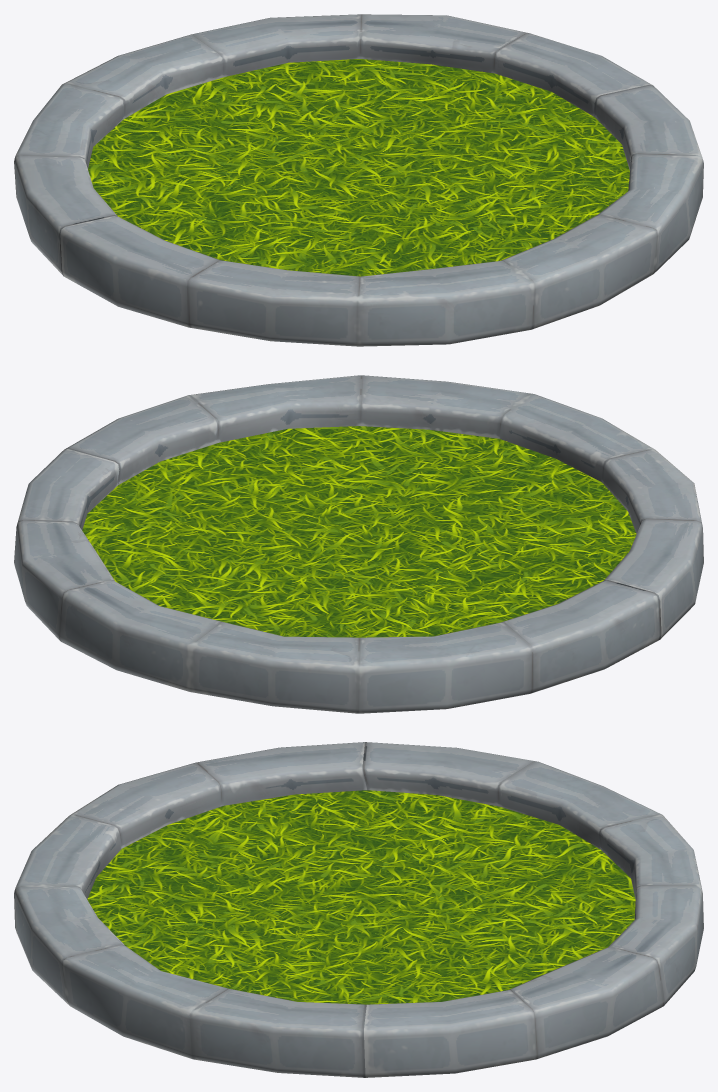
File: StreetPlanter02_2.FBX
3 renders of one model, top to bottom at view 1: azimuth 30°, elevation 25°; view 2: azimuth 150°, elevation 25°; view 3: azimuth 270°, elevation 25°, orthographic.
Parts seen in each view (by area): view 1: StreetPlanter02_2; view 2: StreetPlanter02_2; view 3: StreetPlanter02_2.
Boxes of the visible parts, x1,y1,x2,y2 form: StreetPlanter02_2: (14, 14, 703, 346); StreetPlanter02_2: (14, 375, 703, 713); StreetPlanter02_2: (14, 742, 703, 1077).
Size of what is drawn, in the model's own units: 1.83 by 0.1448 by 1.83.
